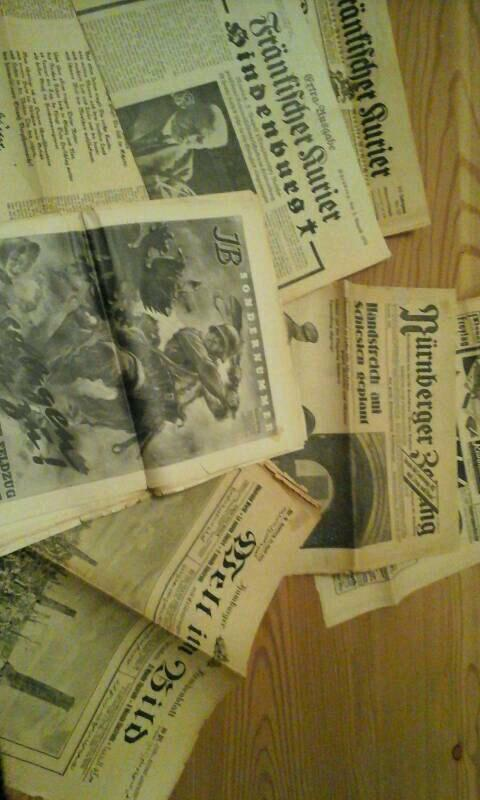paper: (1, 0, 478, 800)
